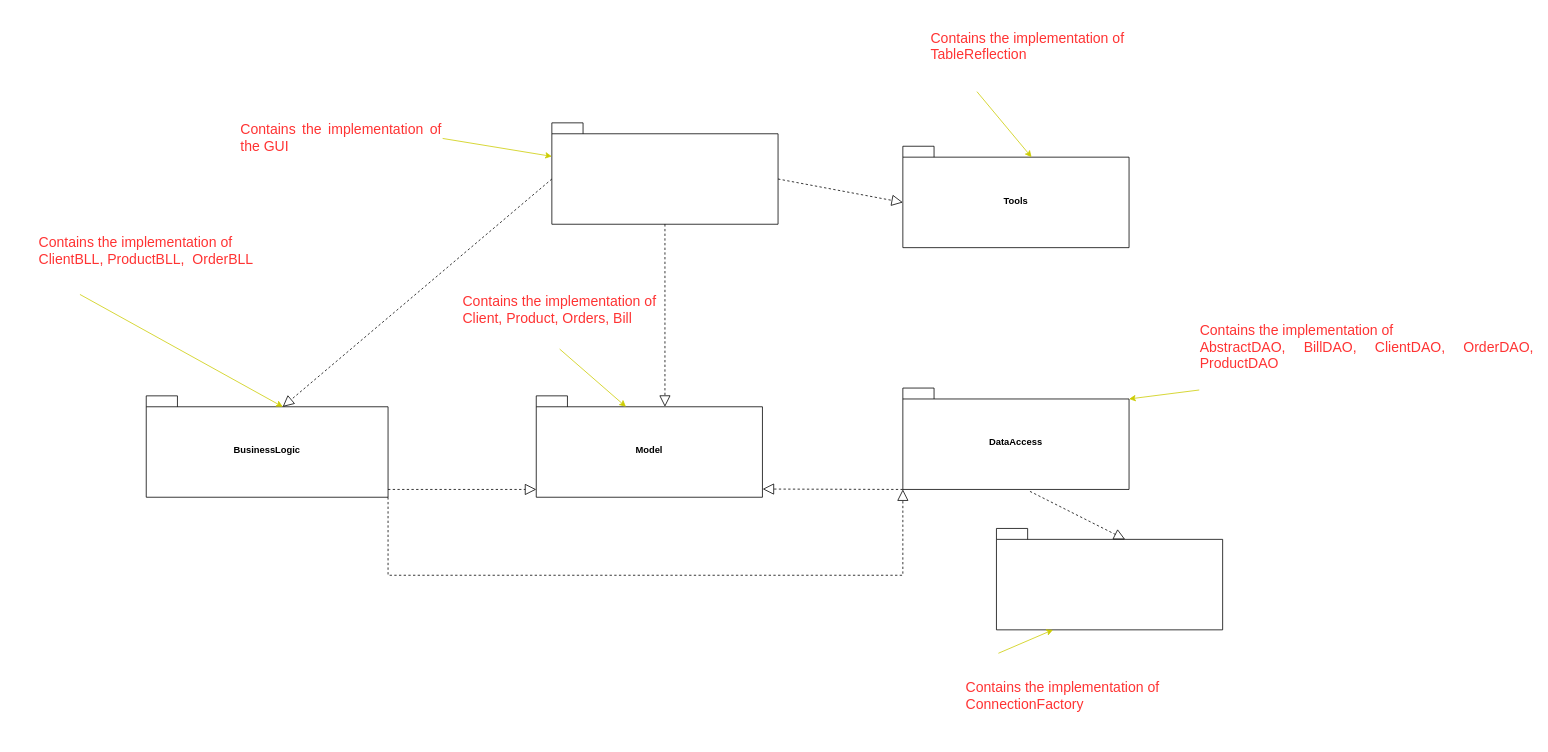
This 1548x752 diagram has some shape labels left out. The shapes that lost their labels are listed below. From the top down, each one's centre as x and y in pixels, then its label:
At pixel 664 173: "Presentation".
At pixel 1109 579: "Connection".
